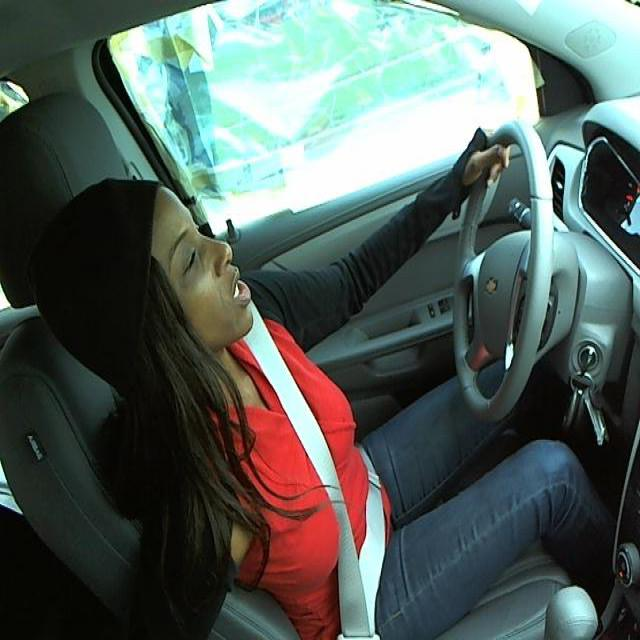seatbelt: (293, 405, 414, 631)
